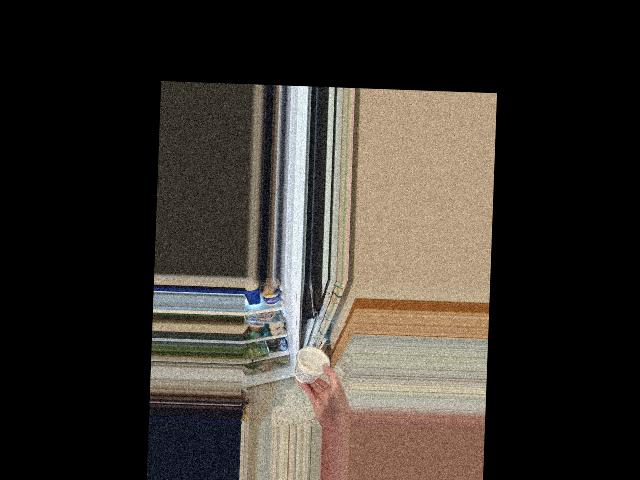cotage: (294, 347, 334, 387)
